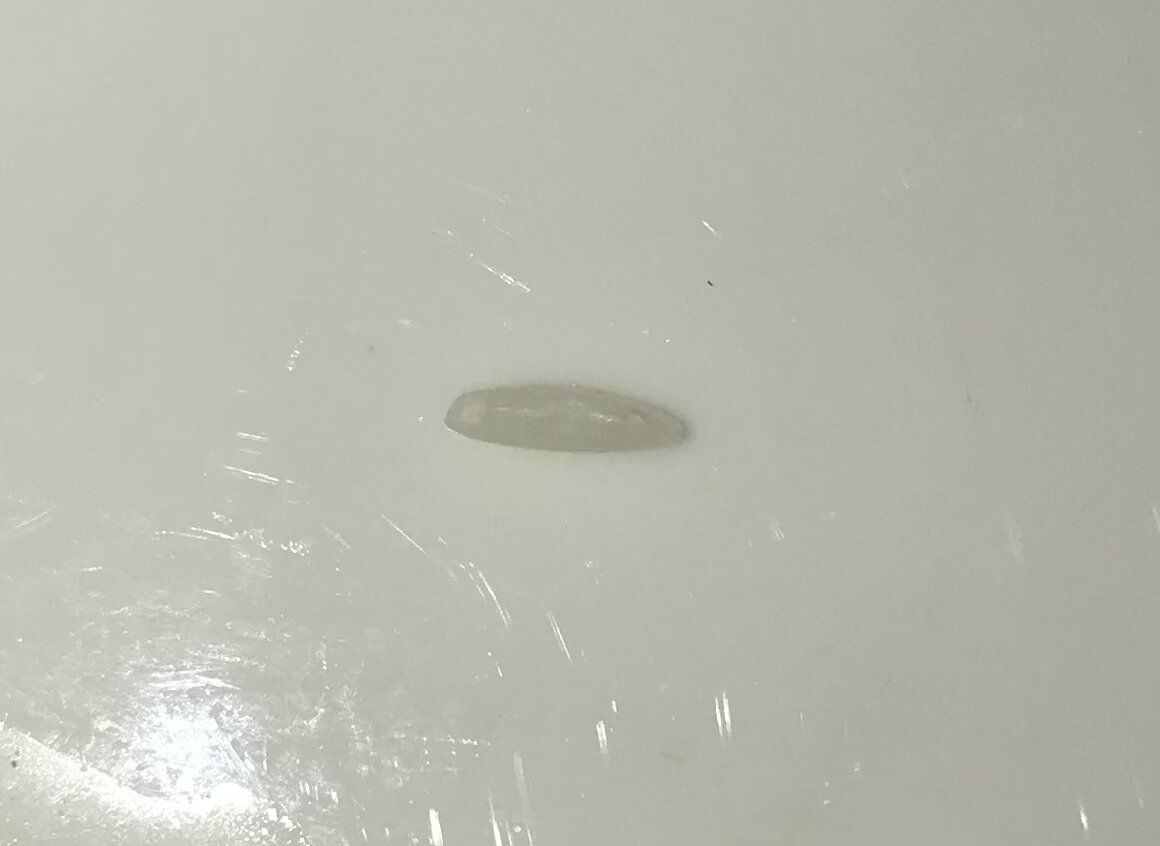Gao Lai Sua: (440, 381, 695, 461)
